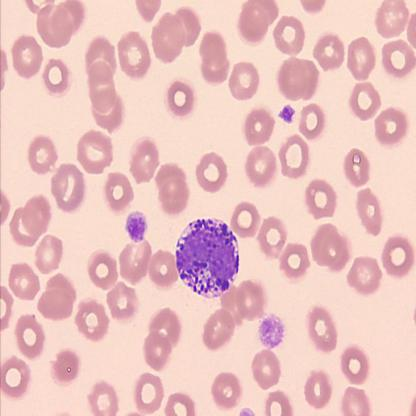Basophil: (174, 214, 242, 301)
